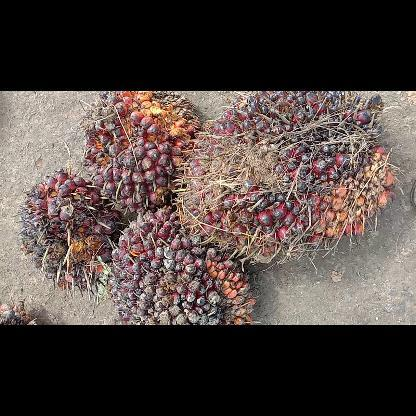Kurang masak: (171, 92, 397, 272), (107, 202, 263, 324)
TBS masak: (80, 90, 204, 214), (11, 166, 124, 296)
